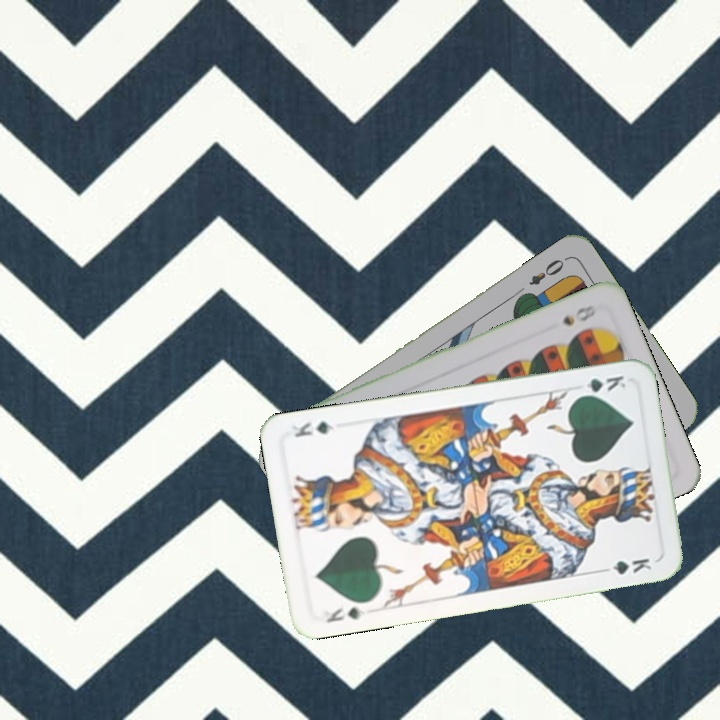EO: (524, 253, 570, 288)
GK: (572, 371, 629, 400), (323, 600, 368, 625)
S8: (558, 301, 599, 328)
